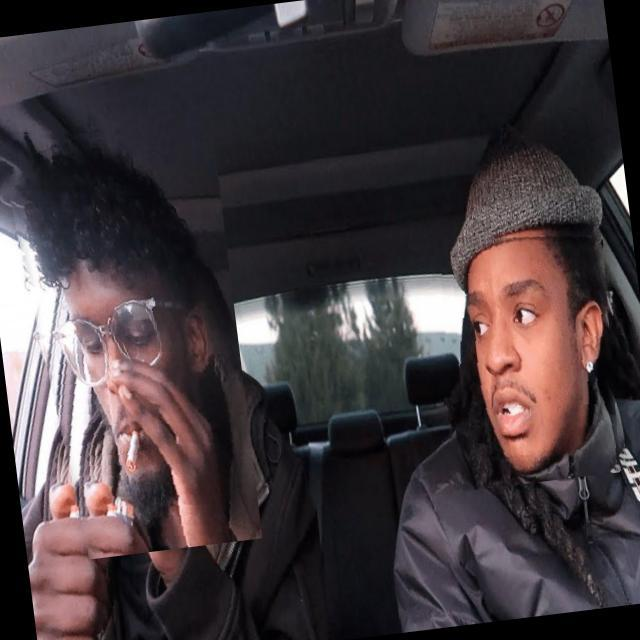cigarette: (78, 410, 126, 498)
